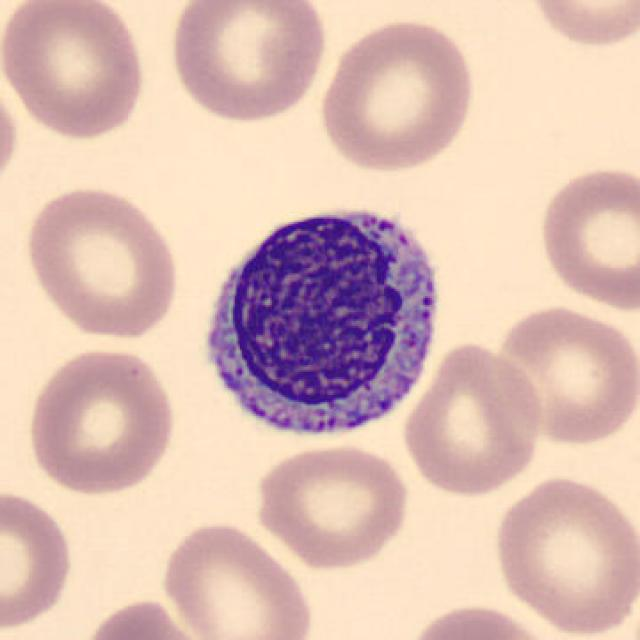Monocyte: (186, 192, 452, 453)
RBC: (315, 14, 480, 176), (19, 182, 185, 342), (489, 471, 638, 638), (22, 344, 182, 497), (400, 337, 548, 499), (491, 301, 638, 448), (0, 0, 151, 143), (250, 439, 412, 571), (164, 0, 330, 125), (156, 518, 316, 640), (534, 160, 638, 314), (0, 485, 76, 633), (398, 599, 560, 640), (76, 594, 212, 640), (521, 0, 640, 51), (0, 72, 21, 195)
